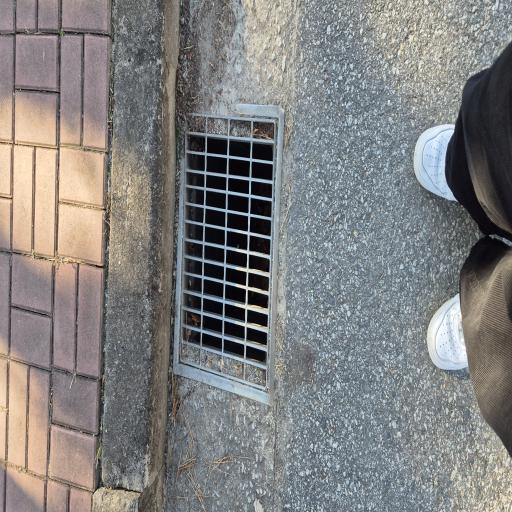drain: (173, 105, 284, 405)
